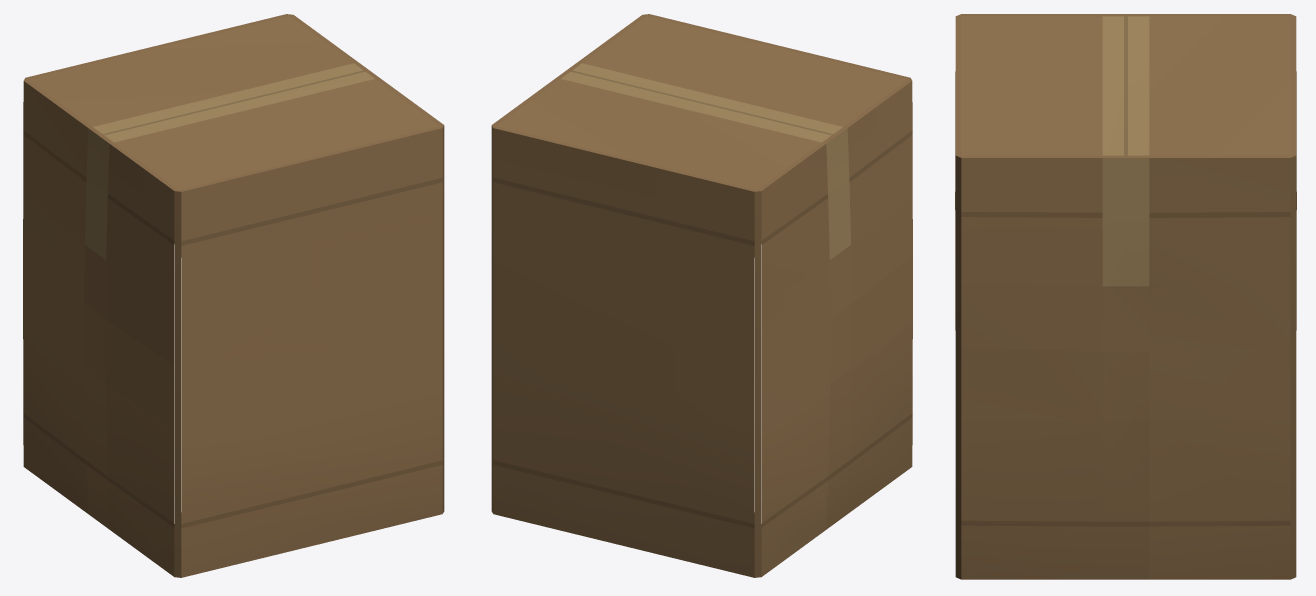
Rendered from box.carton.kraft.glb.
3 views of the same model, side by side, from view 1: azimuth 30°, elevation 25°; view 2: azimuth 150°, elevation 25°; view 3: azimuth 270°, elevation 25° (orthographic). The views are drawn at different scales.
Visible parts, largest first — view 1: box_carton_kraft; view 2: box_carton_kraft; view 3: box_carton_kraft.
Part boxes in pixels (box(x1,y1,x2,y2)): box_carton_kraft: box(23, 14, 444, 577); box_carton_kraft: box(491, 14, 912, 577); box_carton_kraft: box(955, 14, 1296, 579).
Size of what is drawn, in the model's own units: 0.378 by 0.5 by 0.378.
